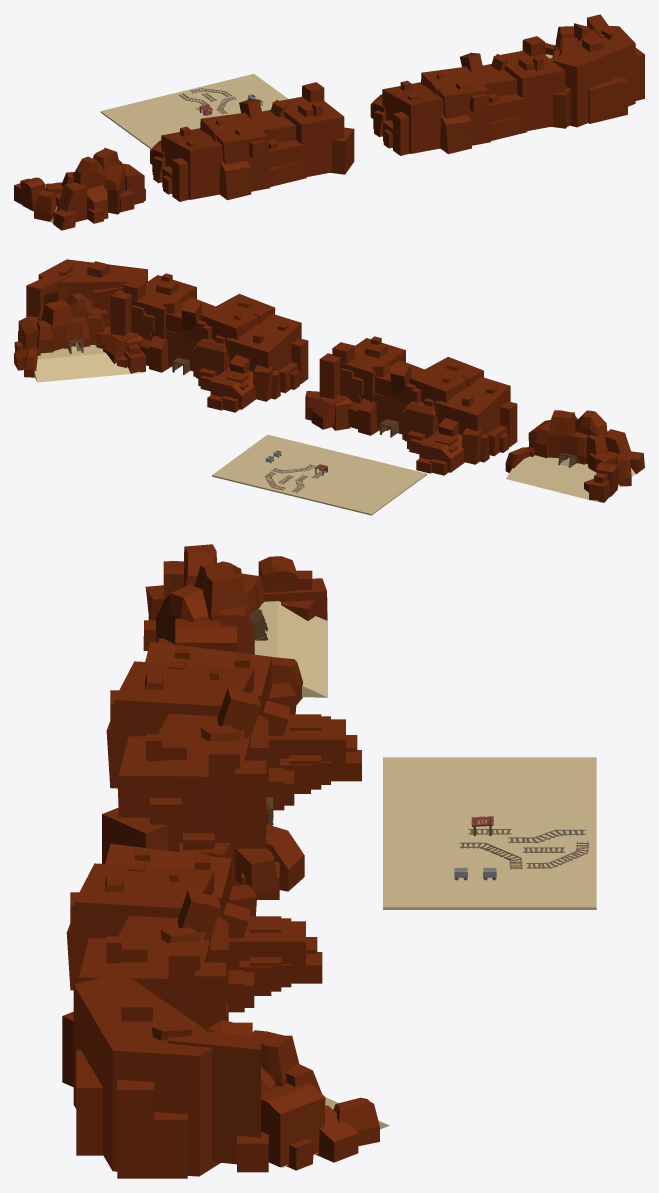
Rendered from Goldmine.fbx.
The picture shows the model from 3 angles, top to bottom: view 1: azimuth 30°, elevation 25°; view 2: azimuth 150°, elevation 25°; view 3: azimuth 270°, elevation 25°; orthographic projection. The views are drawn at different scales.
Visible parts, largest first — view 1: Cube.008, Cube.009, Cube.035, Cube; view 2: Cube.008, Cube.009, Cube, Cube.035; view 3: Cube.008, Cube.009, Cube, Cube.035.
Boxes of the visible parts, x1=… form: Cube.008: x1=370, y1=14, x2=644, y2=155; Cube.009: x1=150, y1=82, x2=354, y2=201; Cube.035: x1=14, y1=148, x2=145, y2=230; Cube: x1=100, y1=74, x2=288, y2=148; Cube.008: x1=14, y1=259, x2=308, y2=412; Cube.009: x1=305, y1=336, x2=517, y2=475; Cube: x1=212, y1=434, x2=427, y2=515; Cube.035: x1=505, y1=410, x2=644, y2=502; Cube.008: x1=62, y1=843, x2=389, y2=1178; Cube.009: x1=102, y1=641, x2=361, y2=899; Cube: x1=383, y1=757, x2=596, y2=909; Cube.035: x1=143, y1=544, x2=327, y2=704.
Size of the model in its own units: 8517 by 1006 by 3383.
